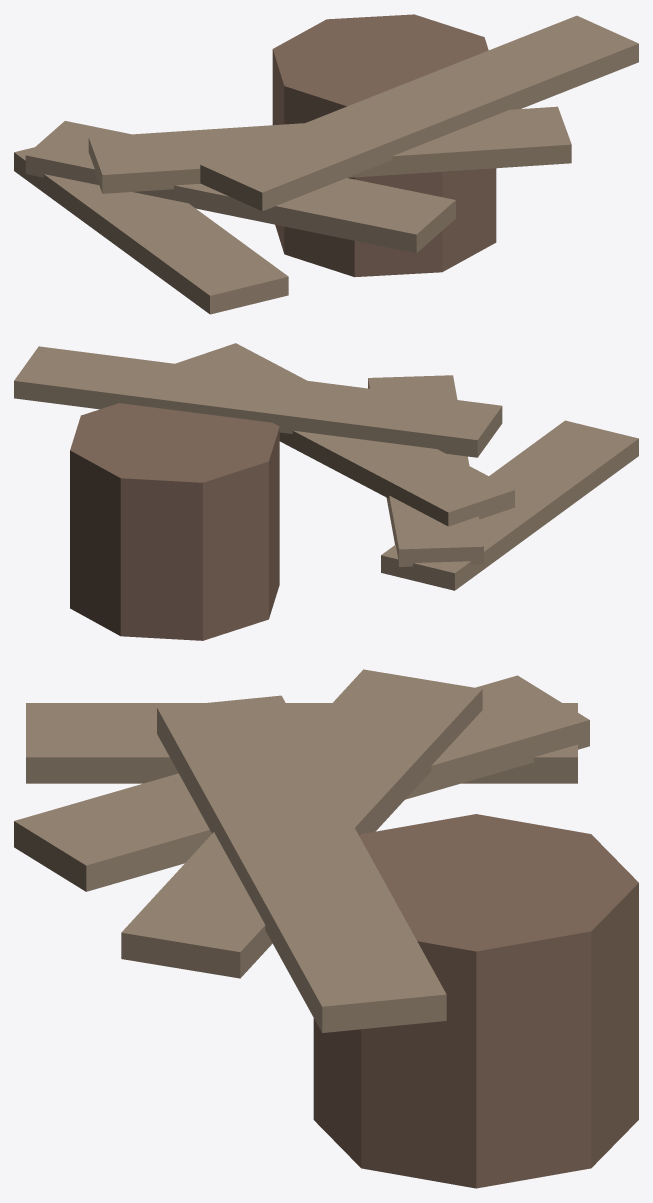
The model's file is debris.glb.
The picture shows the model from 3 angles, top to bottom: view 1: azimuth 30°, elevation 25°; view 2: azimuth 150°, elevation 25°; view 3: azimuth 270°, elevation 25°; orthographic projection. The views are drawn at different scales.
Visible parts, largest first — view 1: geometry_0; view 2: geometry_0; view 3: geometry_0.
Part boxes in pixels (x1,y1,x2,y2): geometry_0: [14, 14, 638, 314]; geometry_0: [14, 343, 638, 640]; geometry_0: [14, 669, 638, 1188].
Bounding box in the file's own units: 1.52 × 0.475 × 1.08.
